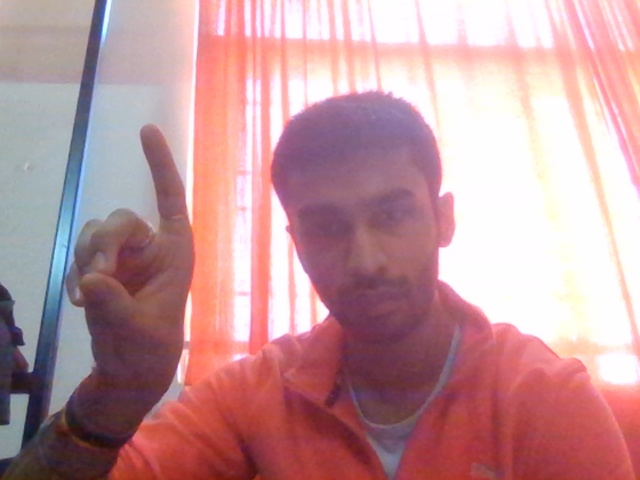D: (48, 101, 227, 416)
